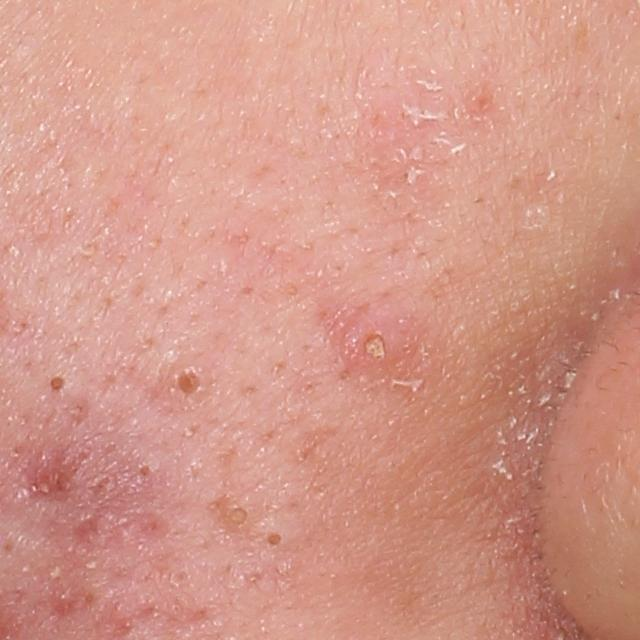comedo: (163, 365, 203, 405), (217, 503, 255, 535), (41, 369, 73, 403), (262, 526, 291, 559), (136, 460, 153, 477)
pustule: (338, 304, 411, 380)
